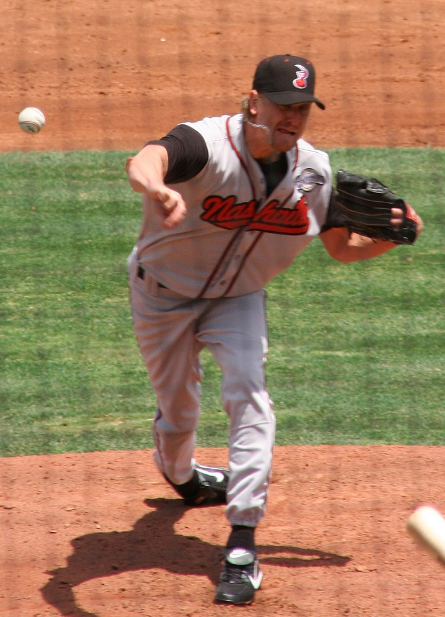ball: (15, 102, 47, 136)
